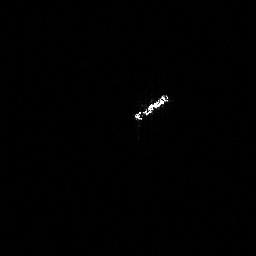ship: (130, 90, 171, 123)
